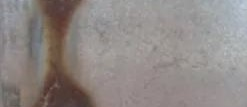Corrosion: (32, 1, 94, 107)
